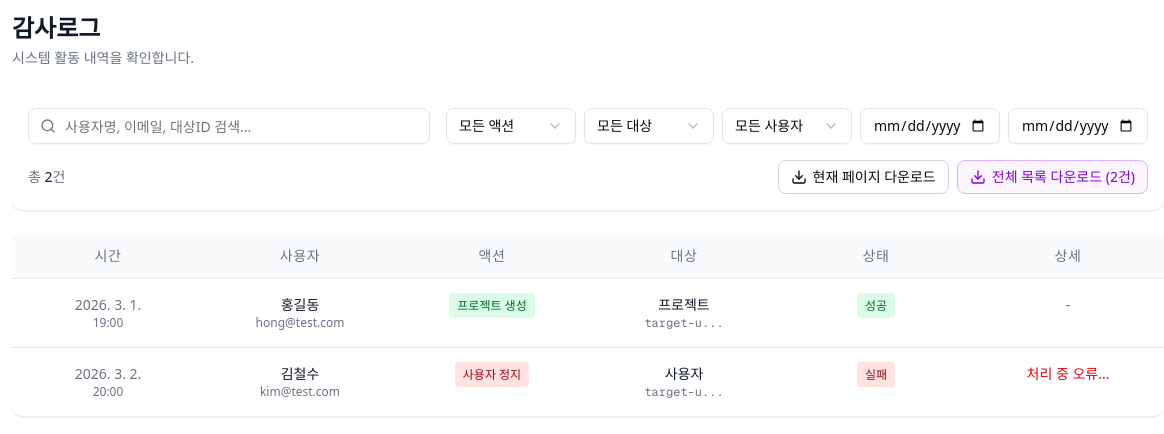
Test: AuditLogClient › 날짜 필터 및 초기화 › 종료일 입력 후 초기화 버튼이 표시된다
The image size is (1164, 434).
In the 2nd date field: point(1078, 126) x1=1008 y1=108 x2=1148 y2=144, type "2026-12-31"
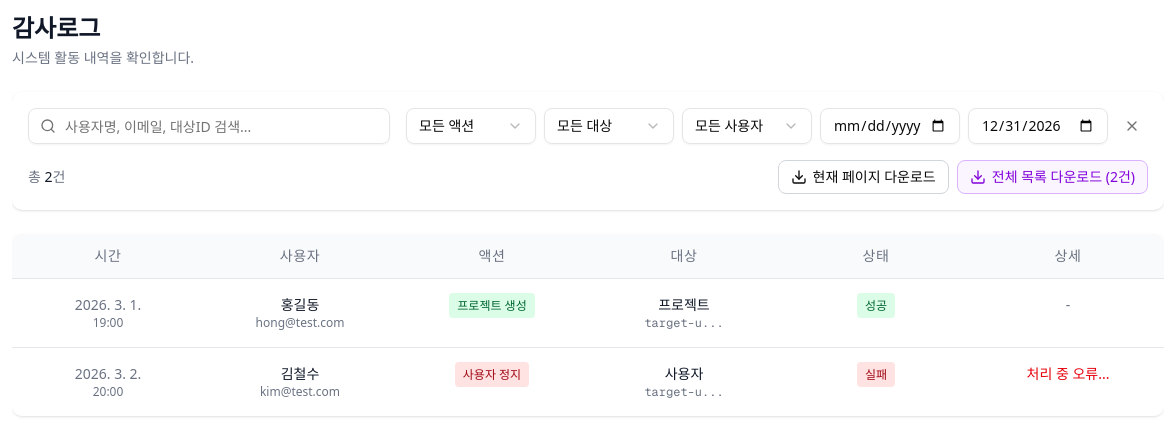
Expected: the button titled "필터 초기화" is shown, x1=1116 y1=108 x2=1148 y2=144
